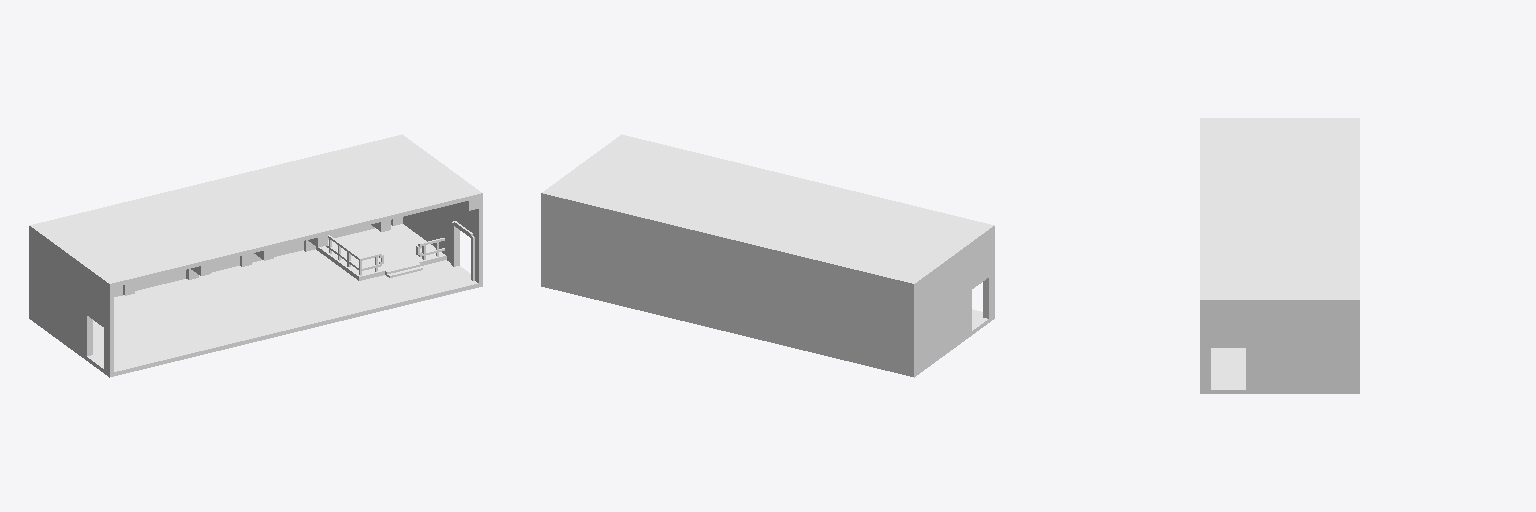
File: Volt-4-Water_1lvl.obj
3 renders of one model, left to right at view 1: azimuth 30°, elevation 25°; view 2: azimuth 150°, elevation 25°; view 3: azimuth 270°, elevation 25°, orthographic.
Visible parts, largest first — view 1: Water_1lvl; view 2: Water_1lvl; view 3: Water_1lvl.
Part boxes in pixels (bbox=[...]): Water_1lvl: bbox=[29, 134, 482, 377]; Water_1lvl: bbox=[541, 134, 994, 377]; Water_1lvl: bbox=[1200, 118, 1359, 393].
Size of the model in its own units: 18.8 by 4.5 by 7.